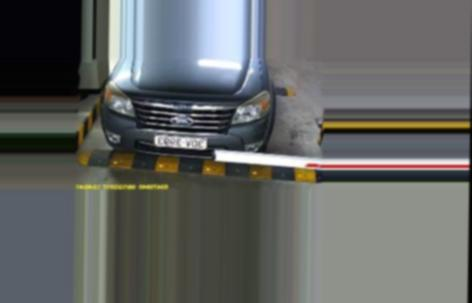License_Plate: (154, 135, 207, 149)
